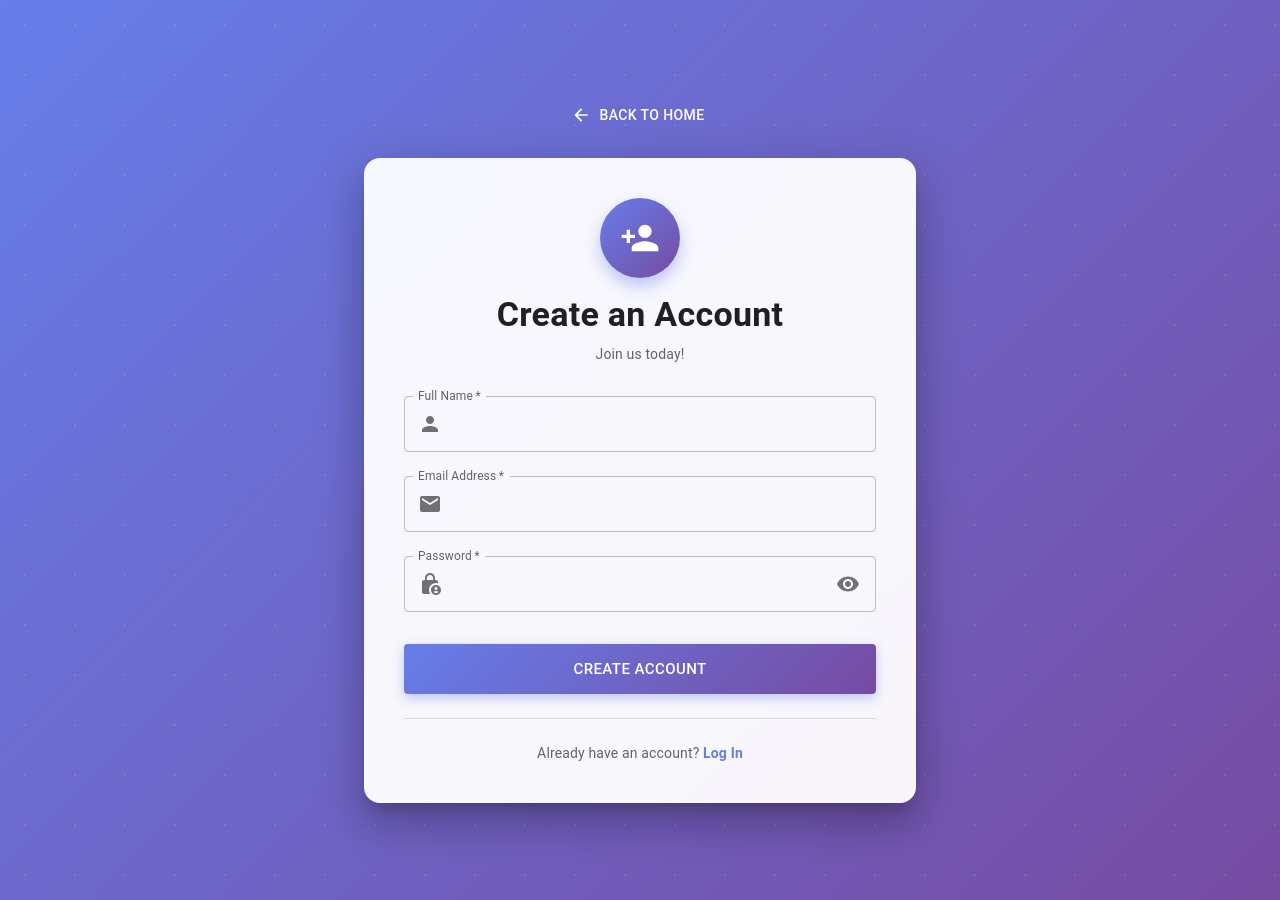
Test: RegistrationPage › handles network error
Type "John Doe" into the field labelled "Full Name *". click: (663, 424)
box: [450,396,876,452]
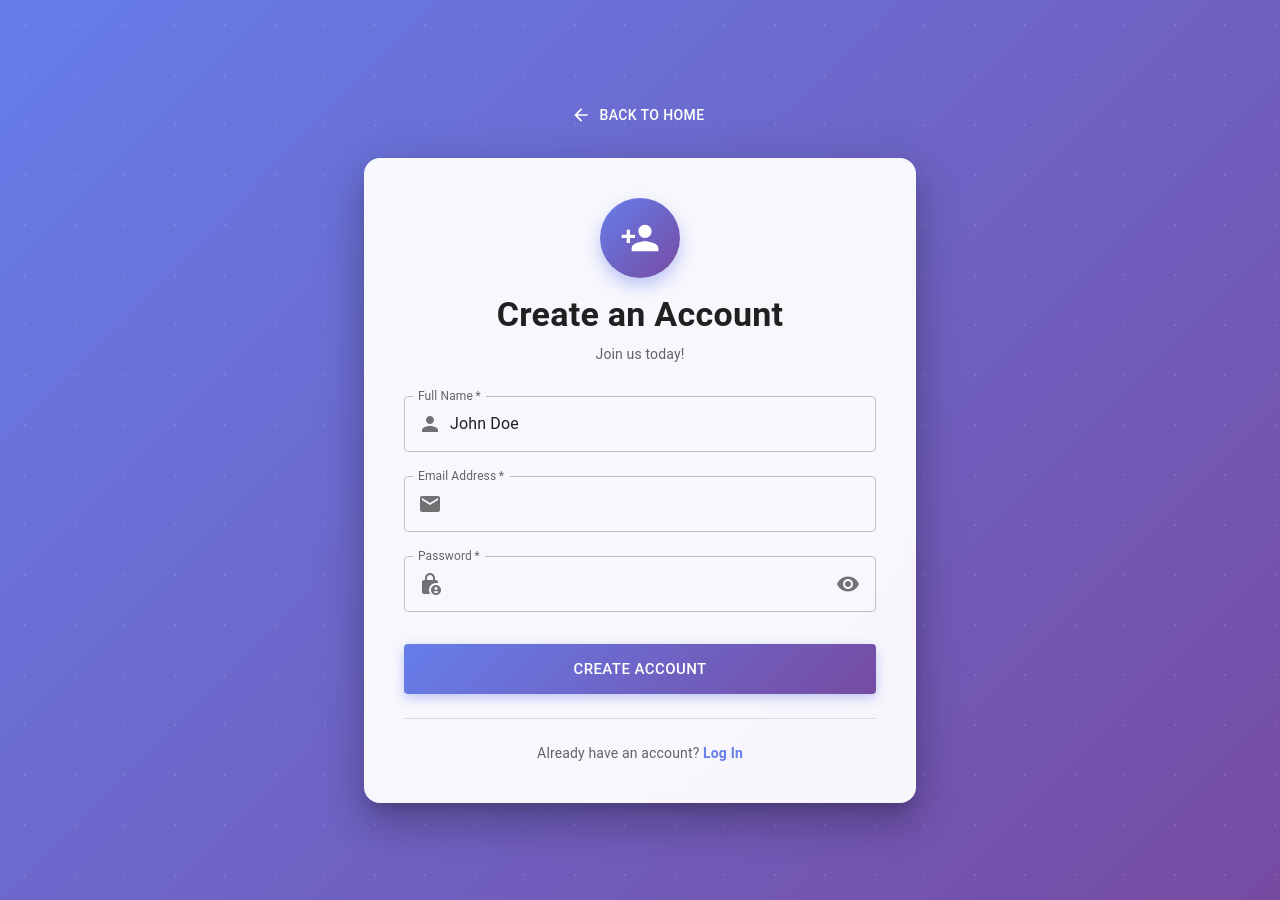
Type "john@example.com" into the field labelled "Email Address *". click: (663, 504)
box: [450,476,876,532]
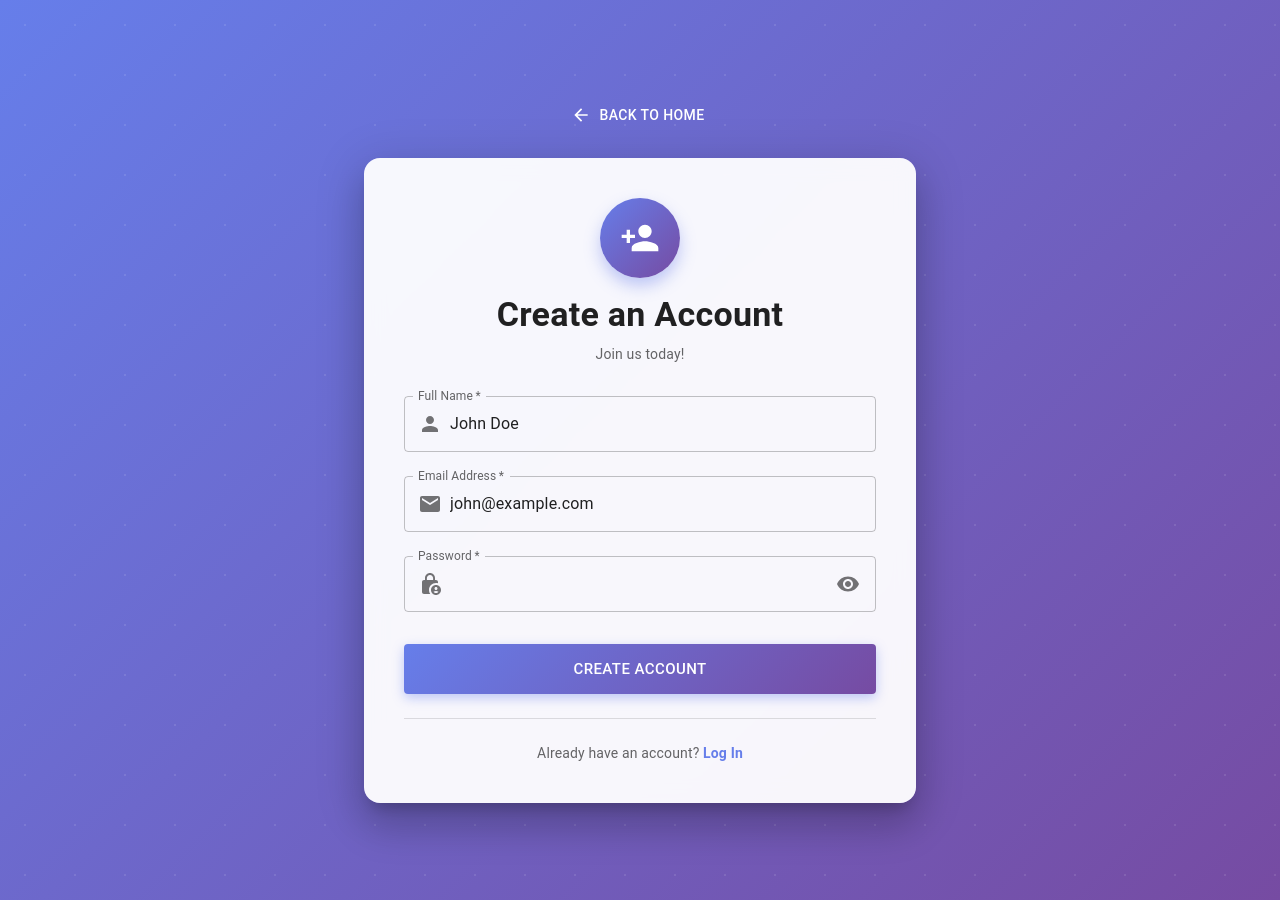
Type "password123" into the password field labelled "Password *". click: (638, 584)
box: [450,556,826,612]
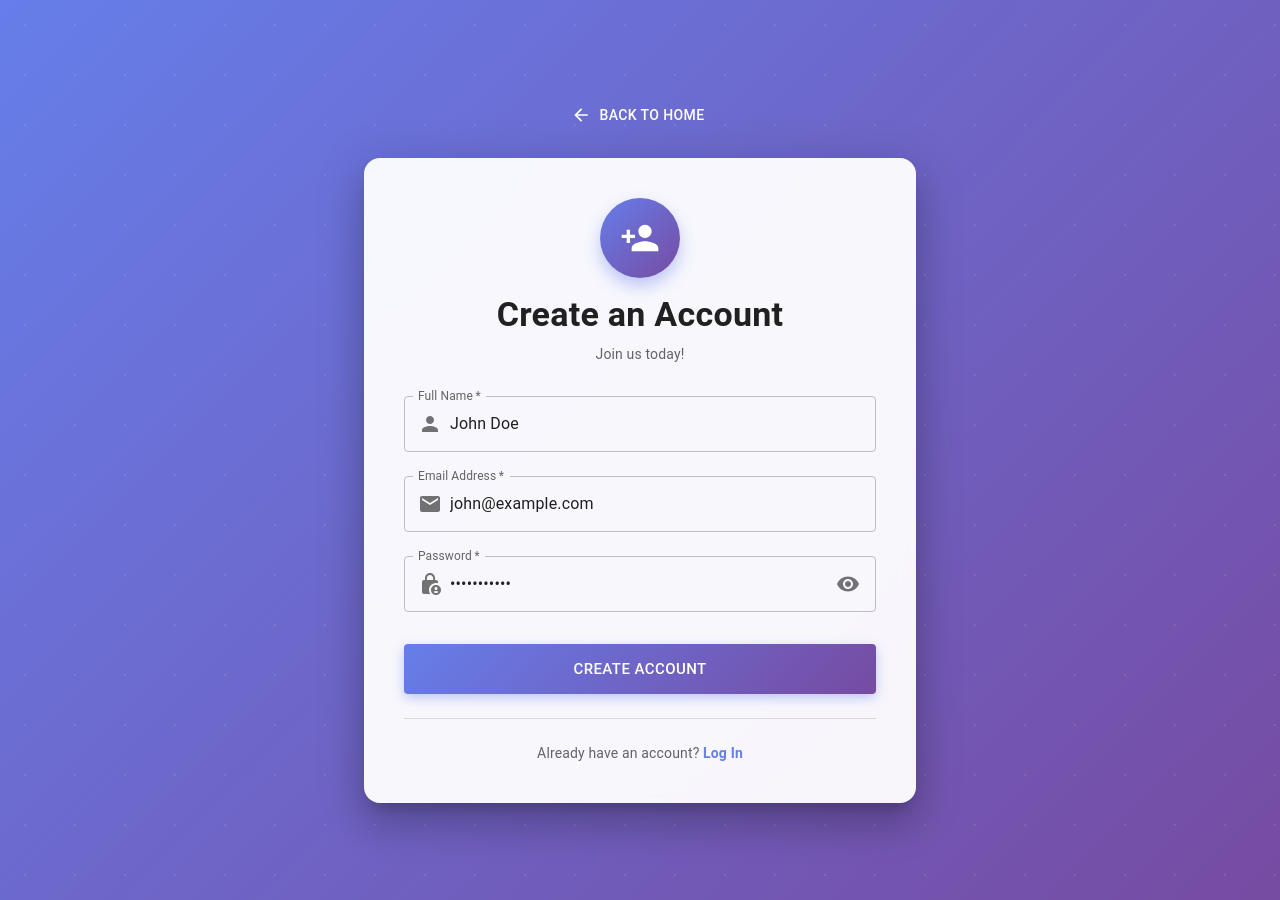
Click the button "Create Account". click: (640, 669)
box: [404,644,876,694]
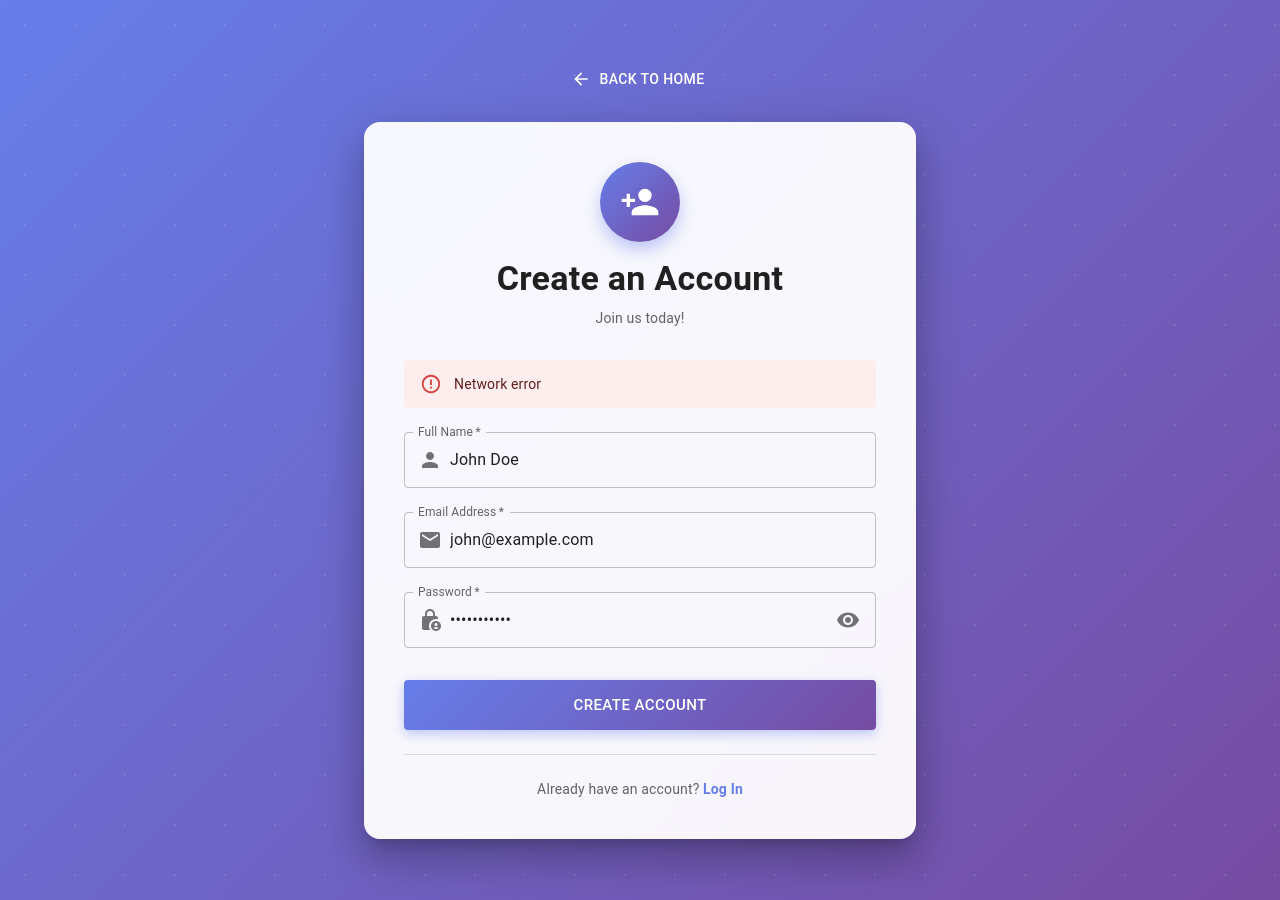
Result: the text "Network error" is shown at [454,376,541,392]
